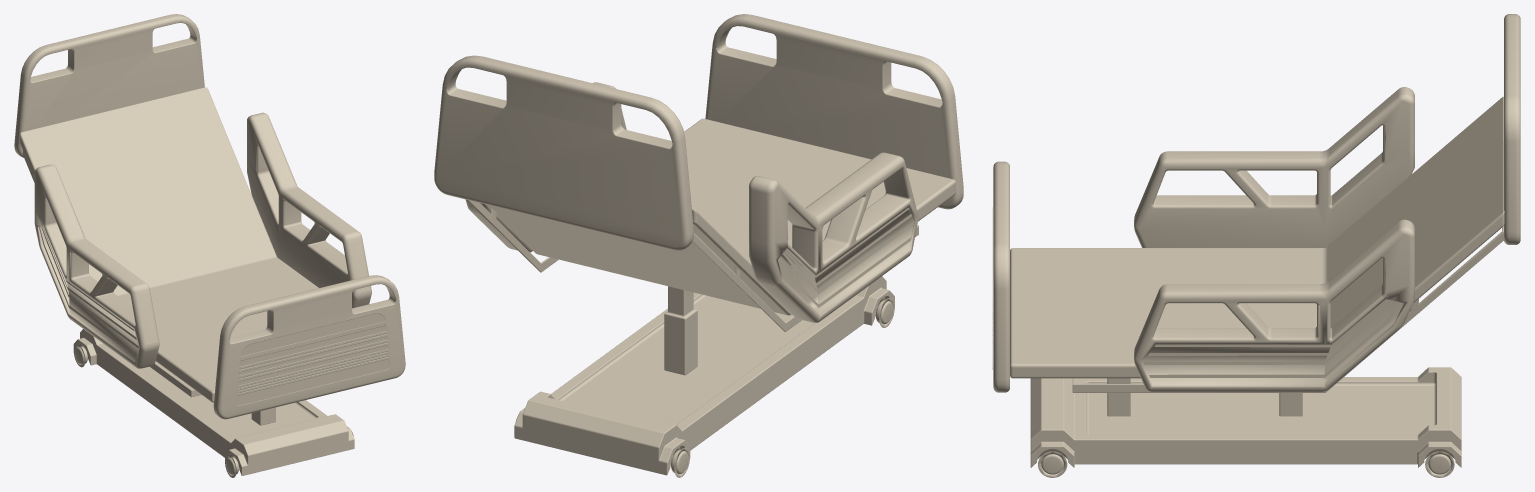
3 renders of one model, left to right at view 1: azimuth 30°, elevation 25°; view 2: azimuth 150°, elevation 25°; view 3: azimuth 270°, elevation 25°, orthographic. The views are drawn at different scales.
Visible parts, largest first — view 1: Object_43; view 2: Object_43; view 3: Object_43.
Part boxes in pixels (x1,y1,x2,y2): Object_43: (14, 14, 405, 477); Object_43: (434, 14, 963, 477); Object_43: (992, 14, 1520, 477).
Bounding box in the file's own units: 1.27 × 1.58 × 1.97.
